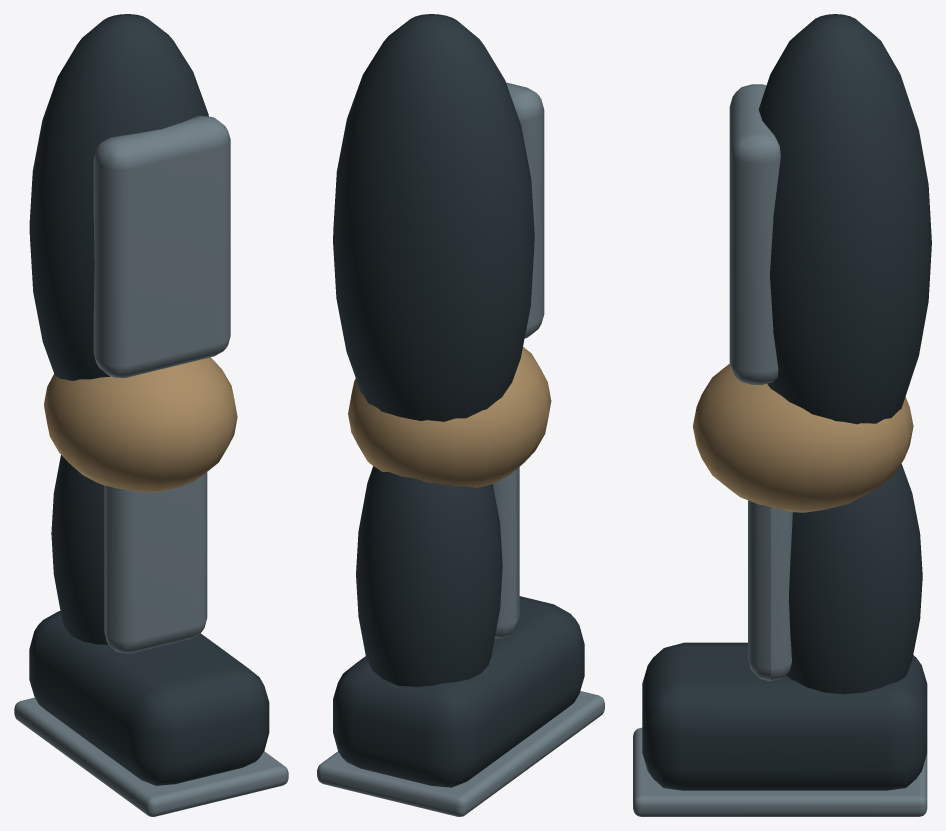
The model's file is courier_leg.fbx.
3 renders of one model, left to right at view 1: azimuth 30°, elevation 25°; view 2: azimuth 150°, elevation 25°; view 3: azimuth 270°, elevation 25°, orthographic. The views are drawn at different scales.
Parts seen in each view (by area): view 1: courier_leg; view 2: courier_leg; view 3: courier_leg.
Boxes of the visible parts, bbox=[...] form: courier_leg: bbox=[14, 14, 288, 816]; courier_leg: bbox=[317, 14, 604, 816]; courier_leg: bbox=[633, 14, 931, 816].
Bounding box in the file's own units: 23 × 32.5 × 91.75.
